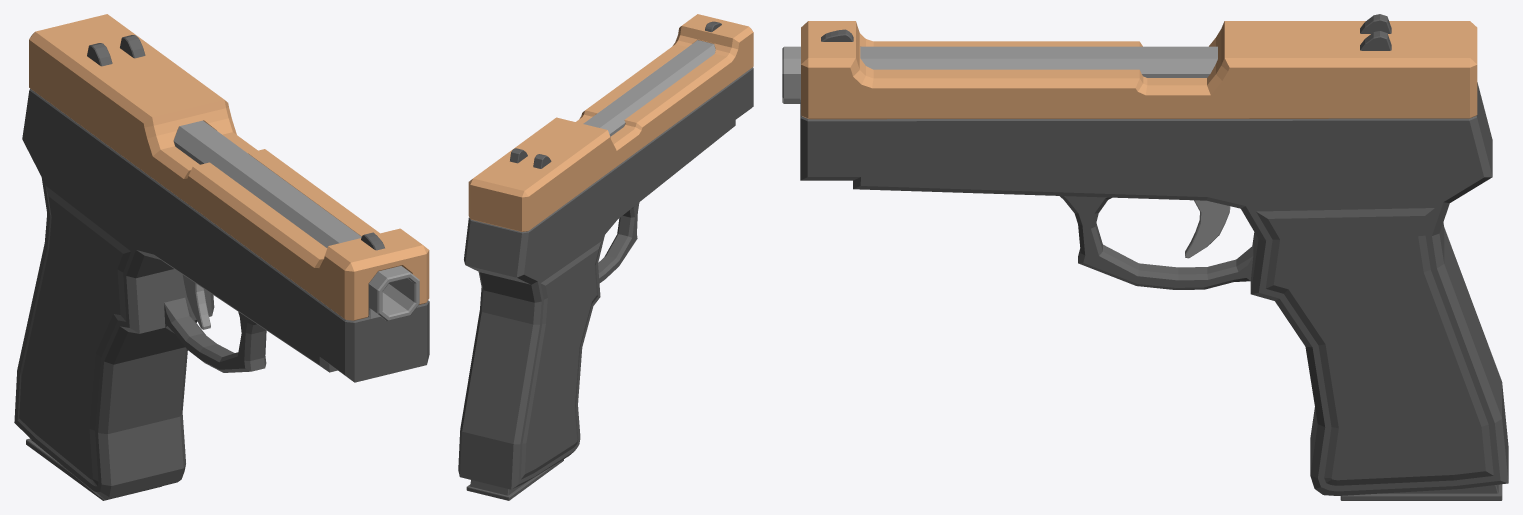
The model's file is Gun.glb.
3 views of the same model, side by side, from view 1: azimuth 30°, elevation 25°; view 2: azimuth 150°, elevation 25°; view 3: azimuth 270°, elevation 25° (orthographic). The views are drawn at different scales.
Visible parts, largest first — view 1: MainBody, Slider, Iron sight, Trigger, Mag; view 2: MainBody, Slider, Mag, Iron sight; view 3: MainBody, Slider, Mag, Trigger, Iron sight.
Boxes of the visible parts, bbox=[...] form: MainBody: bbox=[14, 88, 429, 499]; Slider: bbox=[29, 14, 429, 320]; Iron sight: bbox=[87, 35, 384, 250]; Trigger: bbox=[182, 275, 210, 329]; Mag: bbox=[26, 438, 161, 500]; MainBody: bbox=[458, 40, 753, 489]; Slider: bbox=[468, 14, 753, 231]; Mag: bbox=[466, 459, 563, 500]; Iron sight: bbox=[510, 21, 721, 168]; MainBody: bbox=[782, 46, 1508, 495]; Slider: bbox=[801, 21, 1477, 119]; Mag: bbox=[1340, 484, 1502, 500]; Trigger: bbox=[1185, 200, 1230, 258]; Iron sight: bbox=[821, 14, 1391, 50].
Bounding box in the file's own units: 2.1 × 9.94 × 14.19.
